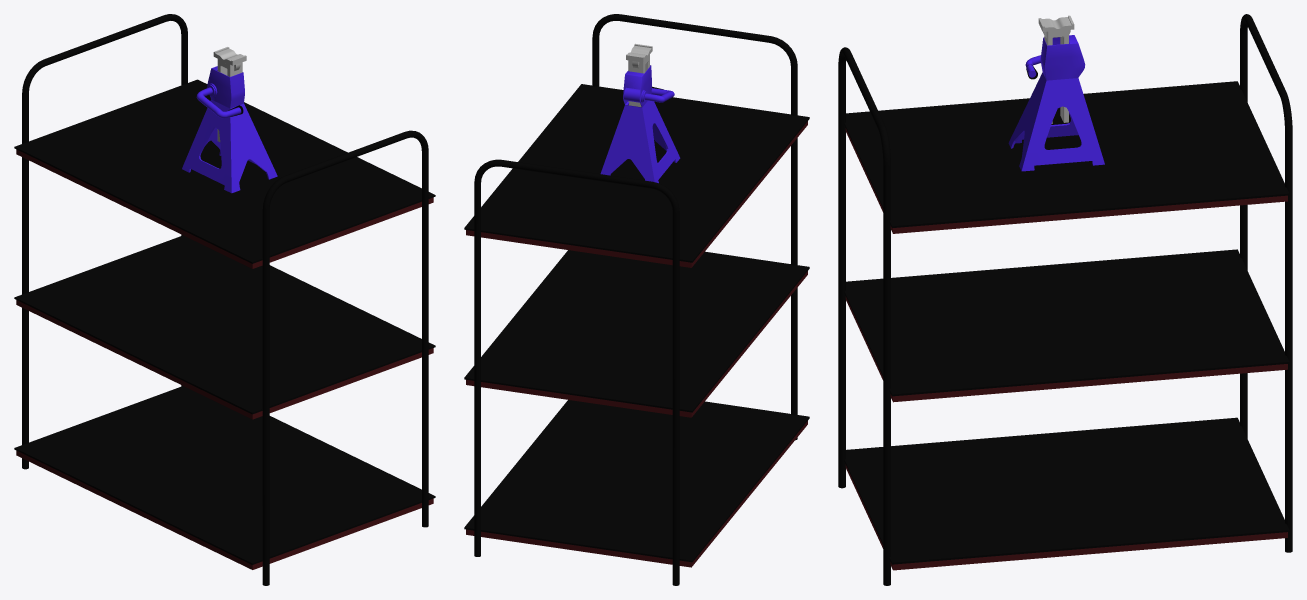
File: Bike Workshop_Jack.fbx
3 views of the same model, side by side, from view 1: azimuth 30°, elevation 25°; view 2: azimuth 150°, elevation 25°; view 3: azimuth 270°, elevation 25° (orthographic). The views are drawn at different scales.
Visible parts, largest first — view 1: Plane.017, Plane.018; view 2: Plane.017, Plane.018; view 3: Plane.017, Plane.018.
Boxes of the visible parts, x1,y1,x2,y2 form: Plane.017: (14,14,435,585); Plane.018: (182,47,277,193); Plane.017: (464,14,809,585); Plane.018: (600,43,680,183); Plane.017: (838,14,1292,585); Plane.018: (1008,15,1104,171).
Bounding box in the file's own units: 295 × 471 × 390.
